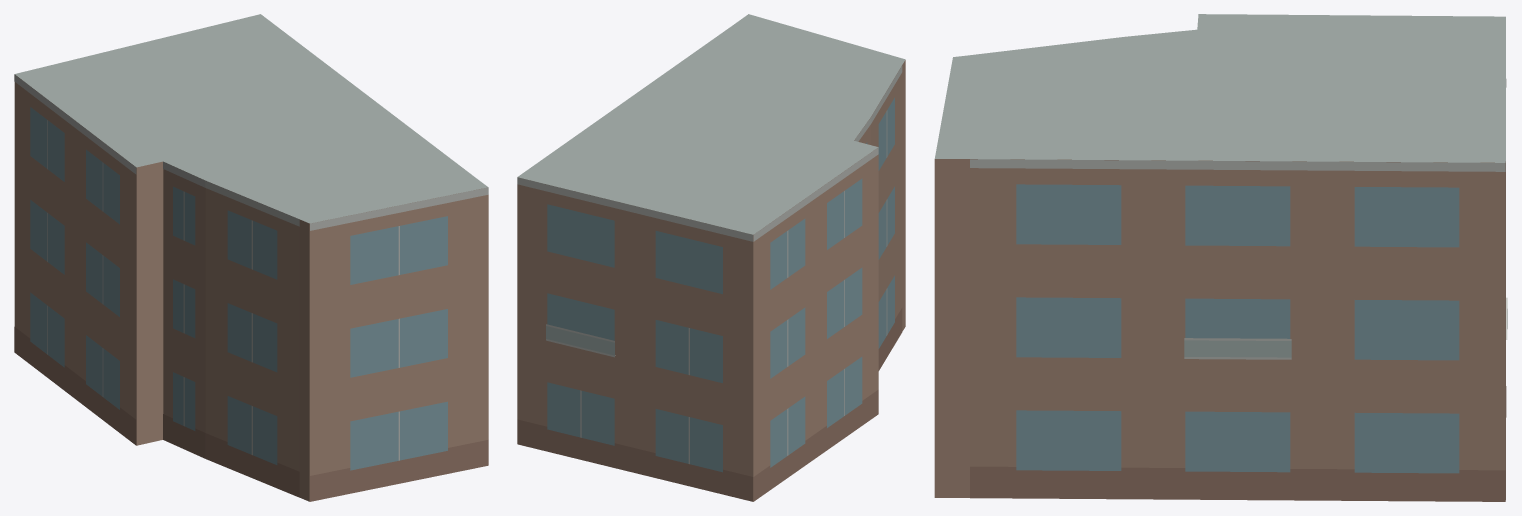
The model's file is survey-upis-32665970.glb.
The picture shows the model from 3 angles, left to right: view 1: azimuth 30°, elevation 25°; view 2: azimuth 150°, elevation 25°; view 3: azimuth 270°, elevation 25°; orthographic projection. The views are drawn at different scales.
Visible parts, largest first — view 1: survey-upis-32665970.tmp; view 2: survey-upis-32665970.tmp; view 3: survey-upis-32665970.tmp.
Part boxes in pixels (x1=…): survey-upis-32665970.tmp: x1=14, y1=14, x2=488, y2=501; survey-upis-32665970.tmp: x1=517, y1=14, x2=905, y2=501; survey-upis-32665970.tmp: x1=934, y1=14, x2=1507, y2=501.
Bounding box in the file's own units: 8.63 × 9.15 × 14.02.
